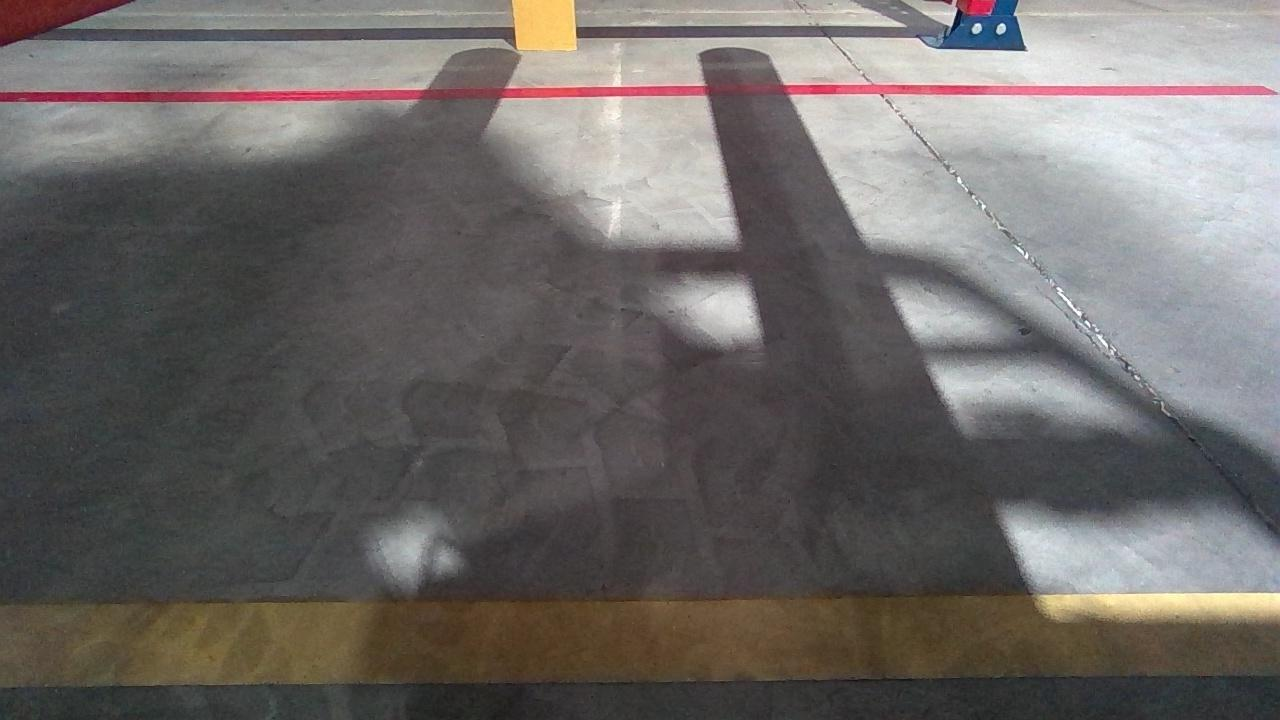orange_strip: (512, 0, 576, 49)
red_line: (0, 79, 1270, 100)
yellow_line: (0, 594, 1278, 682)
